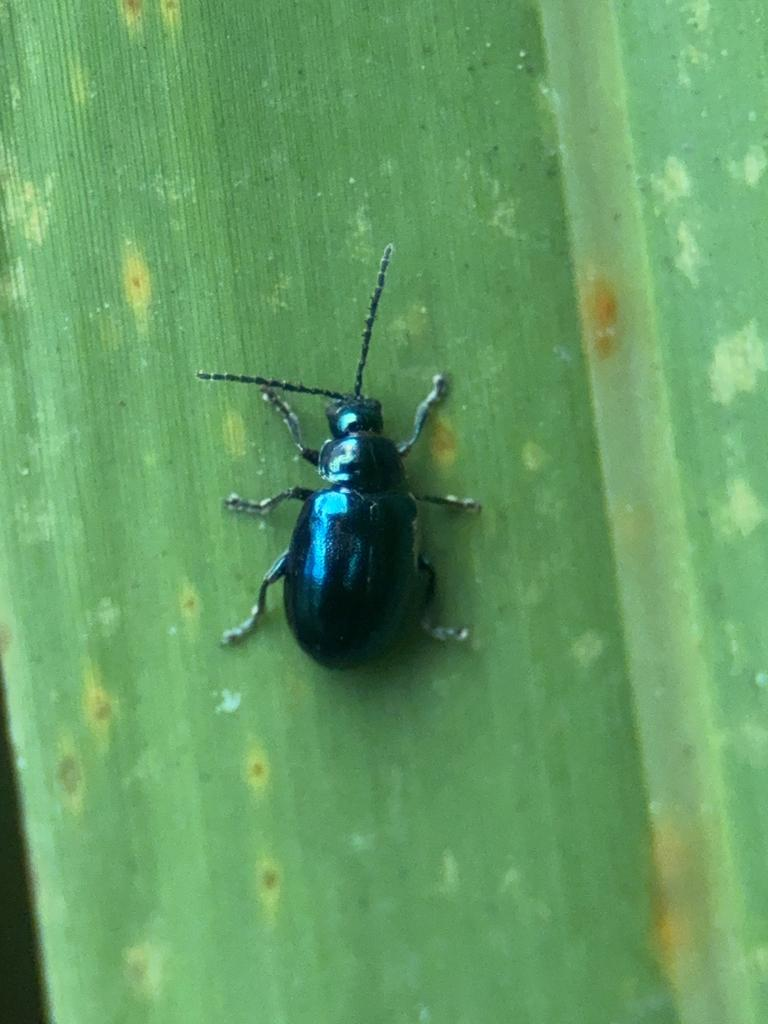flea_beetle: (134, 203, 558, 698)
